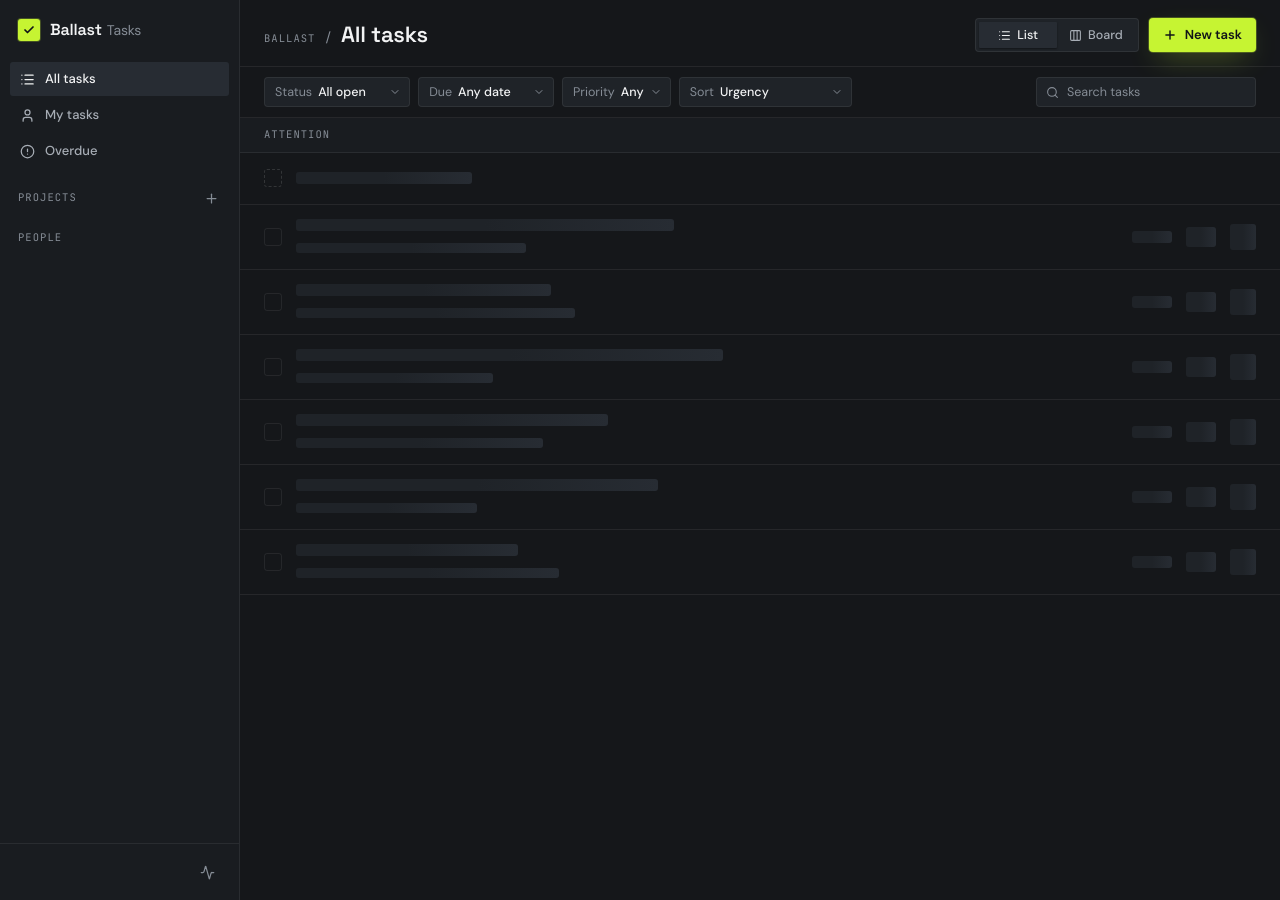
Test: board-opened panel return › returns after deletion to a surviving neighbour, or the empty column heading (neighbour=true)
Click the radio button "Board": (1096, 35) [1069,27,1123,43]
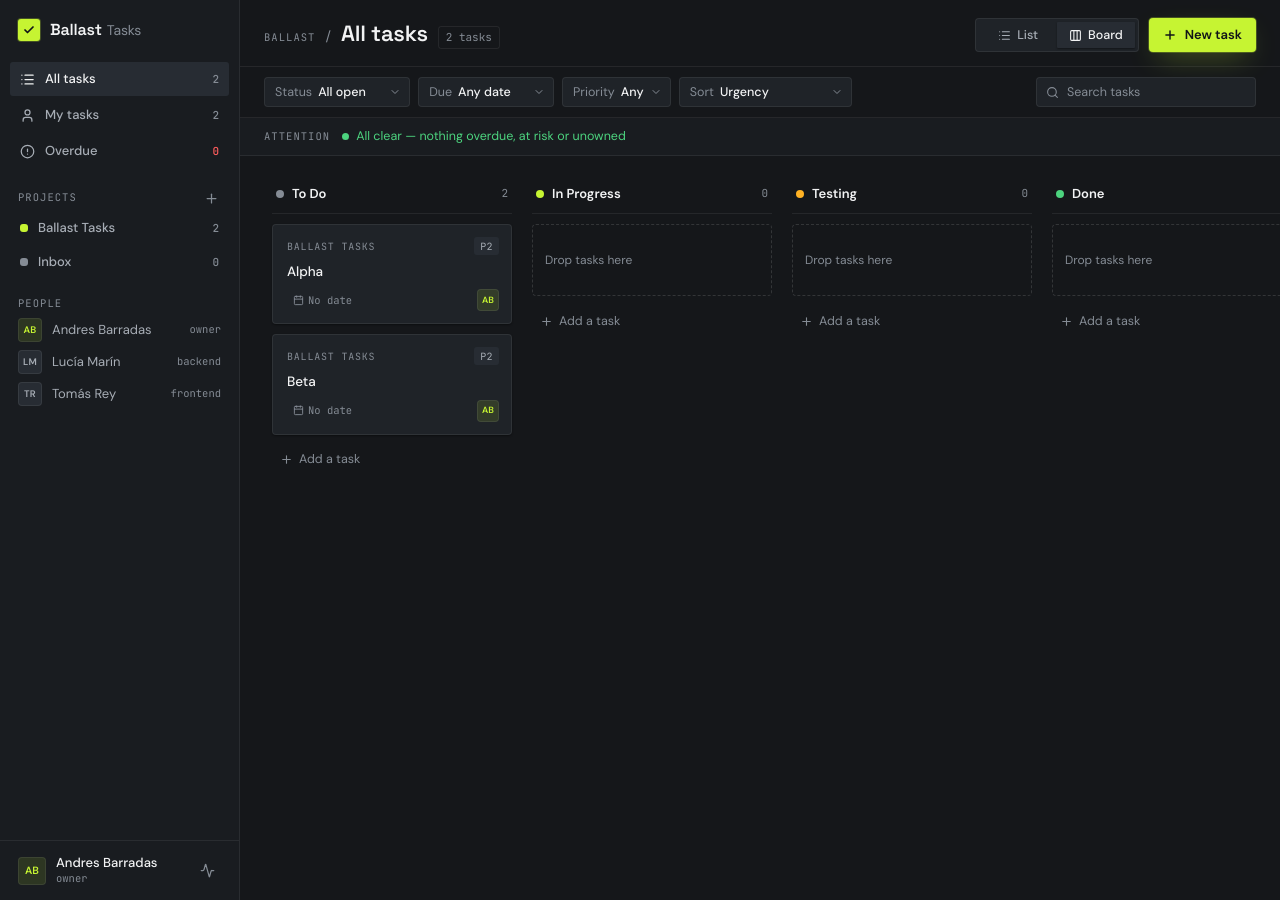
Result: the element "To Do" is shown at [264,172,520,532]
Click the button "Alpha": (393, 272) [287,263,499,282]
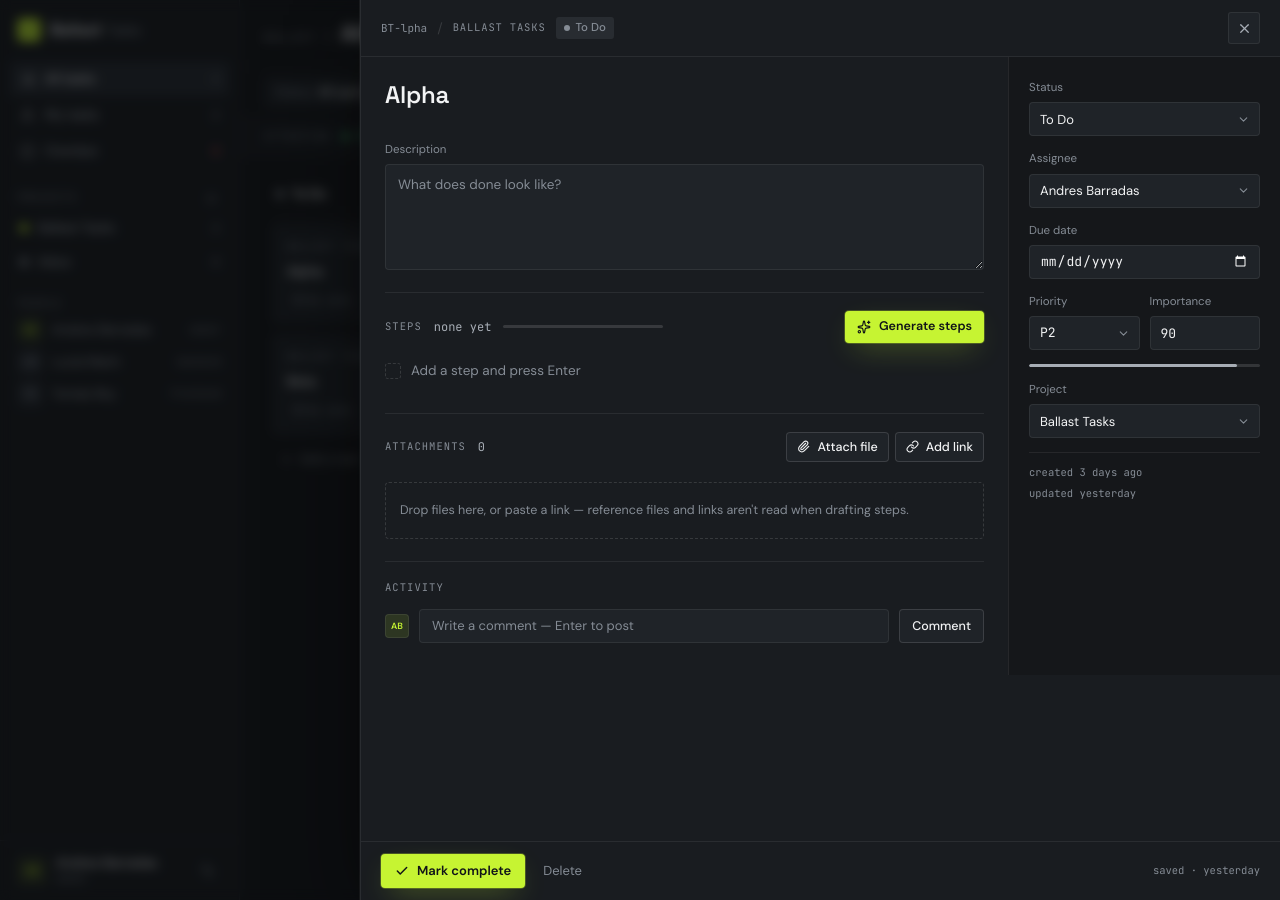
Click the button "Delete": (563, 871) [533,854,592,888]
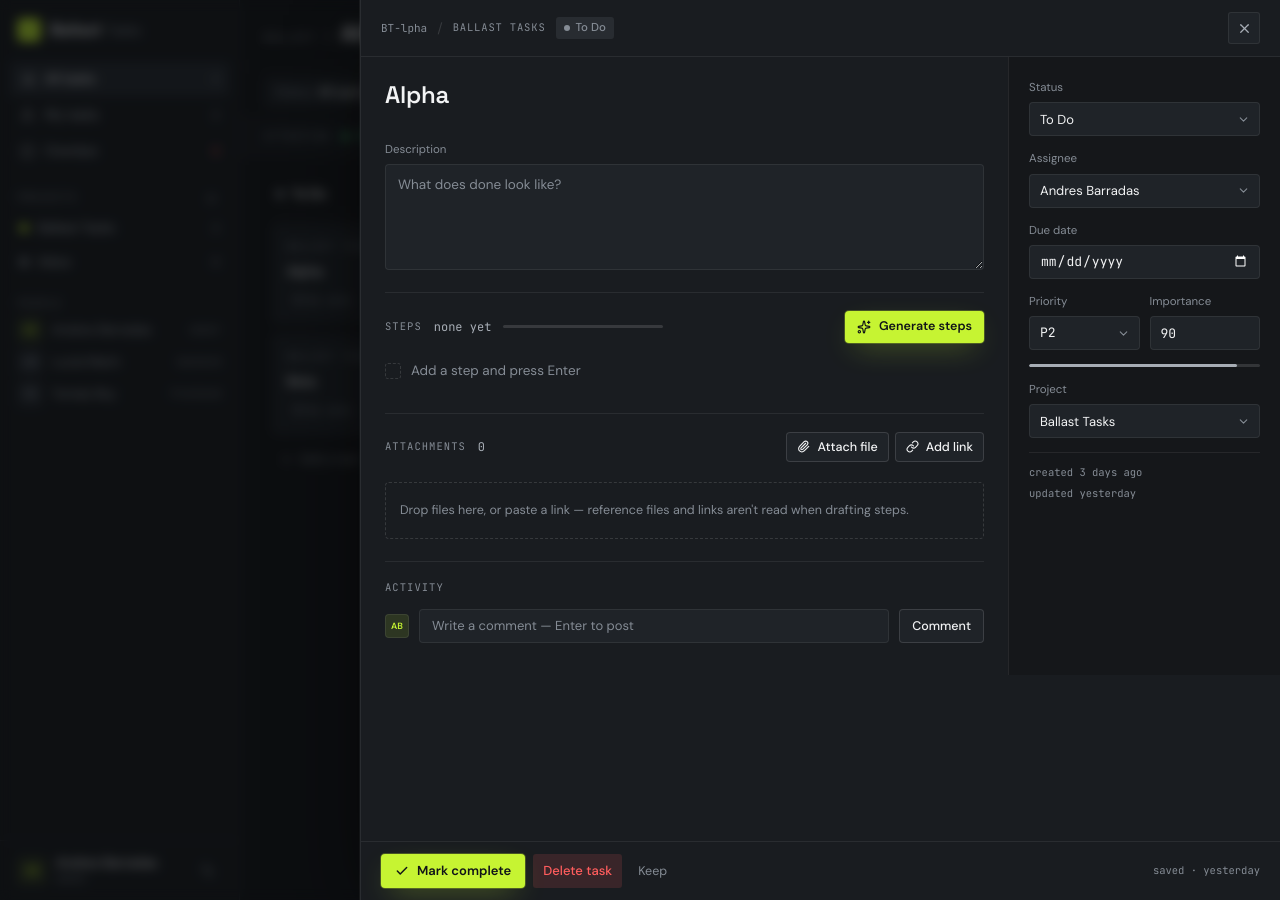
Click the button "Delete task": (578, 871) [533,854,622,888]
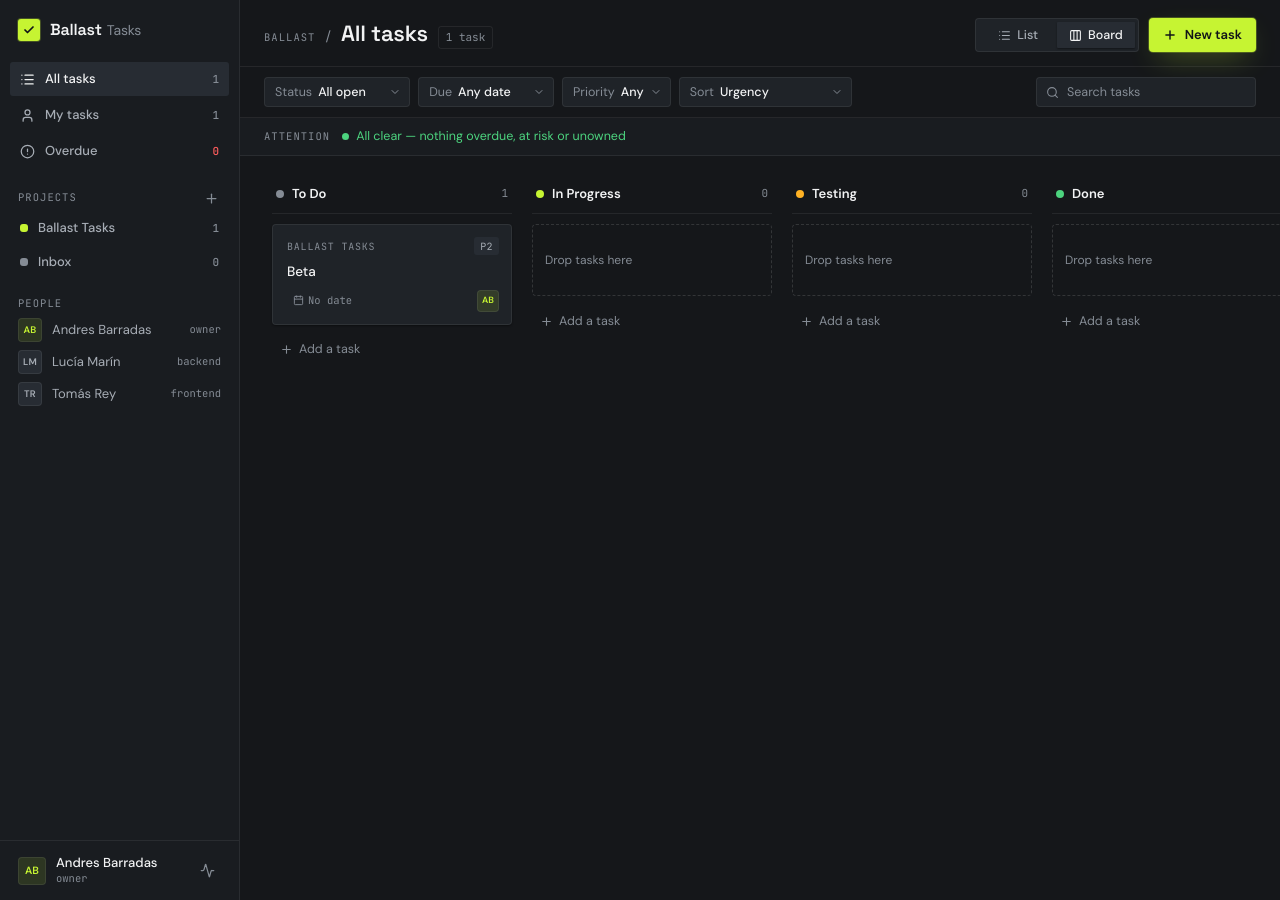
Result: the dialog is gone
